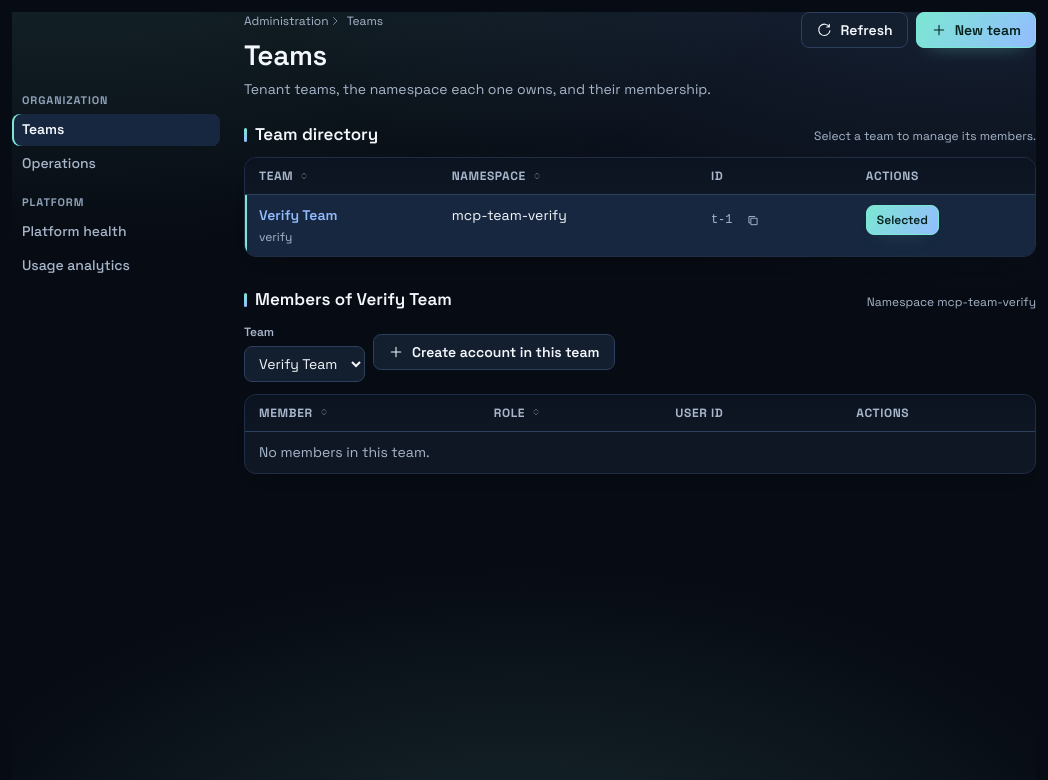
Test case: admin accessibility › has no detectable violations on platform health
Expected: the table with test id "teams-table" is shown, [245, 158, 1035, 256]
Click the button with test id "admin-section-platform": coordinates (116, 232) [12, 216, 220, 248]
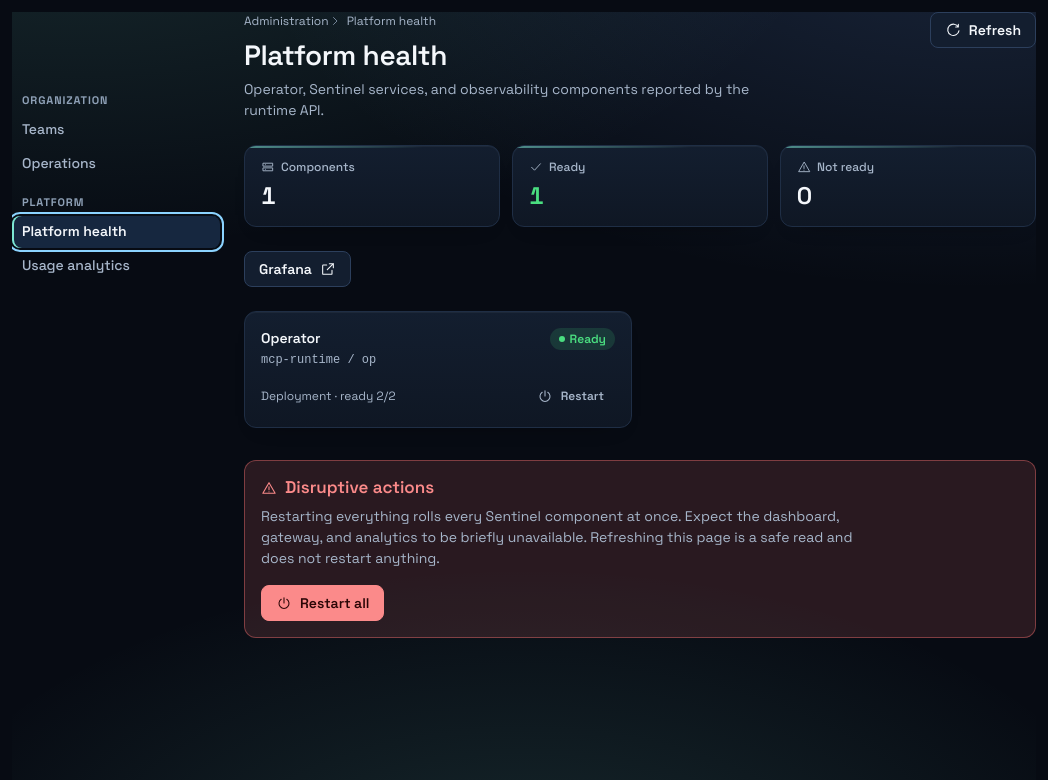
Result: the list with test id "platform-components" is shown at [244, 311, 632, 428]
